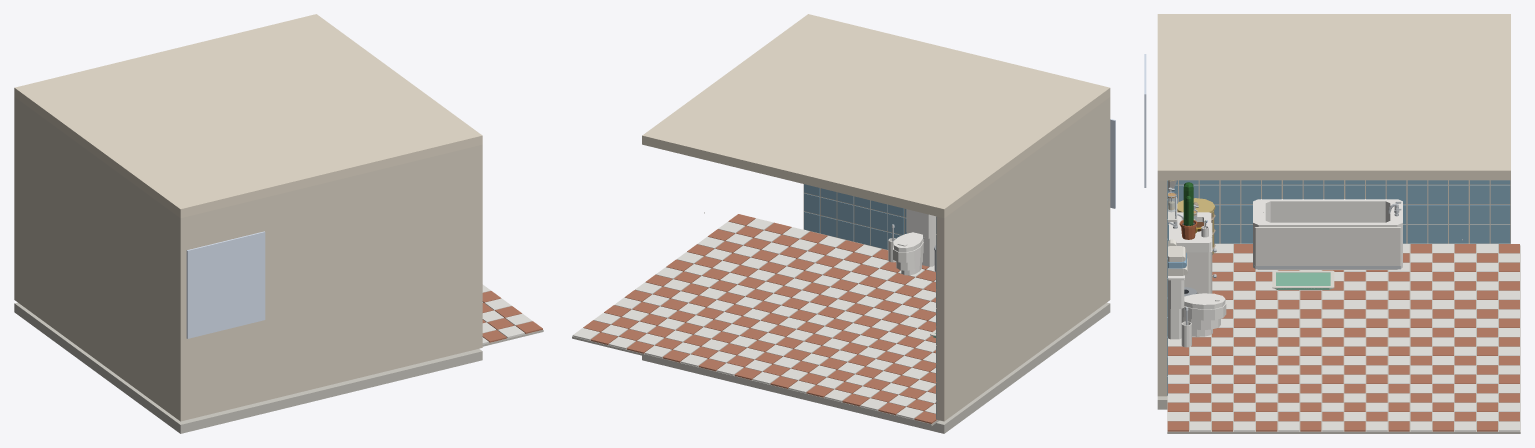
The model's file is SM_LPI_Room_Bathroom.fbx.
3 renders of one model, left to right at view 1: azimuth 30°, elevation 25°; view 2: azimuth 150°, elevation 25°; view 3: azimuth 270°, elevation 25°, orthographic. The views are drawn at different scales.
Parts seen in each view (by area): view 1: SM_LPI_Room_Bathroom, SM_LPI_Room_BathroomGlass, SM_LPI_Struct_Floor_10.017; view 2: SM_LPI_Room_Bathroom, SM_LPI_Struct_Floor_10.012, SM_LPI_Struct_Floor_10.016, SM_LPI_Struct_Floor_10.008, SM_LPI_Struct_Floor_10.020, SM_LPI_Struct_Floor_10.010, SM_LPI_Struct_Floor_10.013, SM_LPI_Struct_Floor_10.015, SM_LPI_Struct_Floor_10.017, SM_LPI_Struct_Floor_10.018, SM_LPI_Struct_Floor_10.014, SM_LPI_Struct_Floor_10.019 (+8 smaller); view 3: SM_LPI_Room_Bathroom, SM_LPI_Bath_Tub_01.001, SM_LPI_Struct_Floor_10.018, SM_LPI_Struct_Floor_10.019, SM_LPI_Struct_Floor_10.020, SM_LPI_Struct_Floor_10.017, SM_LPI_Struct_Floor_10.014, SM_LPI_Struct_Floor_10.015, SM_LPI_Struct_Floor_10.007, SM_LPI_Struct_Floor_10.010, SM_LPI_Struct_Floor_10.011, SM_LPI_Struct_Floor_10.004 (+17 smaller).
Boxes of the visible parts, x1=… form: SM_LPI_Room_Bathroom: x1=14, y1=14, x2=482, y2=433; SM_LPI_Room_BathroomGlass: x1=186, y1=231, x2=265, y2=338; SM_LPI_Struct_Floor_10.017: x1=482, y1=298, x2=543, y2=346; SM_LPI_Room_Bathroom: x1=642, y1=14, x2=1110, y2=433; SM_LPI_Struct_Floor_10.012: x1=716, y1=340, x2=828, y2=391; SM_LPI_Struct_Floor_10.016: x1=644, y1=322, x2=756, y2=373; SM_LPI_Struct_Floor_10.008: x1=788, y1=357, x2=900, y2=408; SM_LPI_Struct_Floor_10.020: x1=572, y1=305, x2=684, y2=355; SM_LPI_Struct_Floor_10.010: x1=799, y1=279, x2=911, y2=327; SM_LPI_Struct_Floor_10.013: x1=769, y1=231, x2=881, y2=279; SM_LPI_Struct_Floor_10.015: x1=686, y1=292, x2=798, y2=340; SM_LPI_Struct_Floor_10.017: x1=697, y1=214, x2=809, y2=261; SM_LPI_Struct_Floor_10.018: x1=656, y1=244, x2=767, y2=292; SM_LPI_Struct_Floor_10.014: x1=728, y1=262, x2=839, y2=309; SM_LPI_Struct_Floor_10.019: x1=614, y1=274, x2=726, y2=322; SM_LPI_Room_Bathroom: x1=1157, y1=14, x2=1510, y2=409; SM_LPI_Bath_Tub_01.001: x1=1253, y1=199, x2=1402, y2=269; SM_LPI_Struct_Floor_10.018: x1=1255, y1=393, x2=1343, y2=433; SM_LPI_Struct_Floor_10.019: x1=1344, y1=393, x2=1432, y2=433; SM_LPI_Struct_Floor_10.020: x1=1432, y1=393, x2=1520, y2=433; SM_LPI_Struct_Floor_10.017: x1=1167, y1=393, x2=1255, y2=433; SM_LPI_Struct_Floor_10.014: x1=1255, y1=356, x2=1343, y2=394; SM_LPI_Struct_Floor_10.015: x1=1344, y1=356, x2=1432, y2=394; SM_LPI_Struct_Floor_10.007: x1=1344, y1=281, x2=1432, y2=319; SM_LPI_Struct_Floor_10.010: x1=1255, y1=318, x2=1343, y2=357; SM_LPI_Struct_Floor_10.011: x1=1344, y1=318, x2=1432, y2=357; SM_LPI_Struct_Floor_10.004: x1=1432, y1=244, x2=1520, y2=282.
Size of the model in its own units: 5.11 by 2.98 by 4.26.
